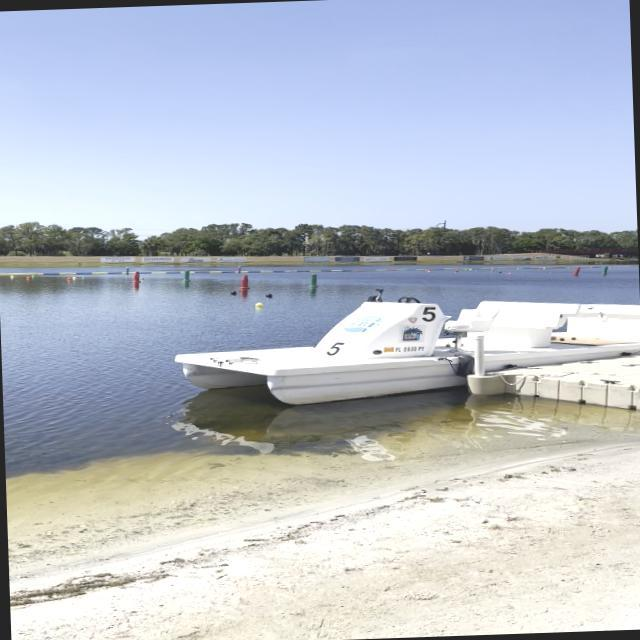buoy: (570, 264, 582, 276), (252, 300, 268, 308), (264, 290, 274, 300), (80, 274, 86, 279), (24, 275, 31, 279), (66, 276, 72, 280), (30, 274, 36, 277)
